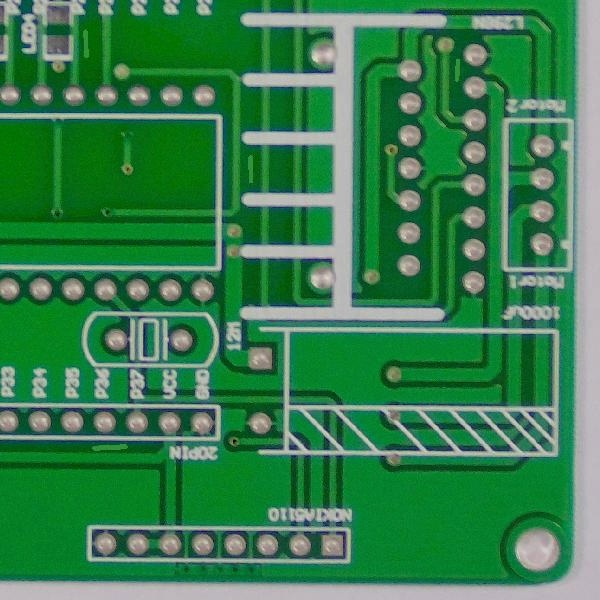spurious_copper: (85, 437, 136, 461), (446, 48, 471, 87), (241, 149, 262, 189), (77, 26, 99, 62)
